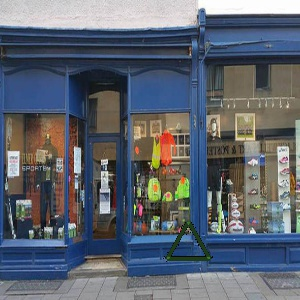triangle: (163, 217, 215, 263)
